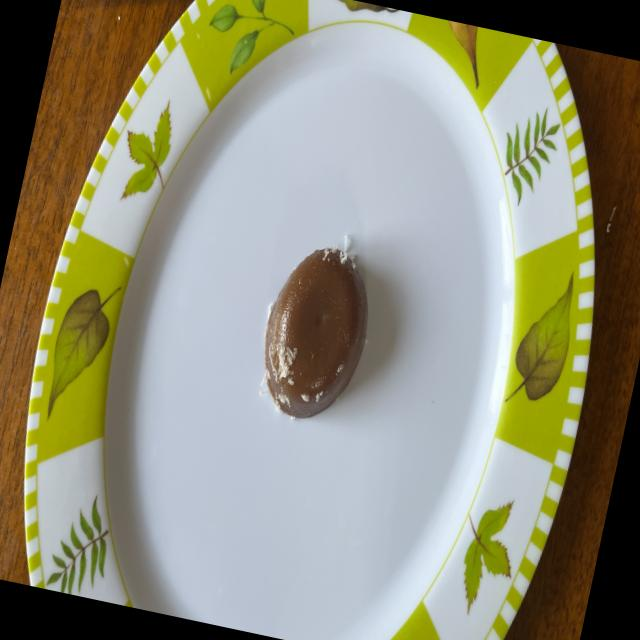Kuih lompang: (264, 245, 367, 418)
